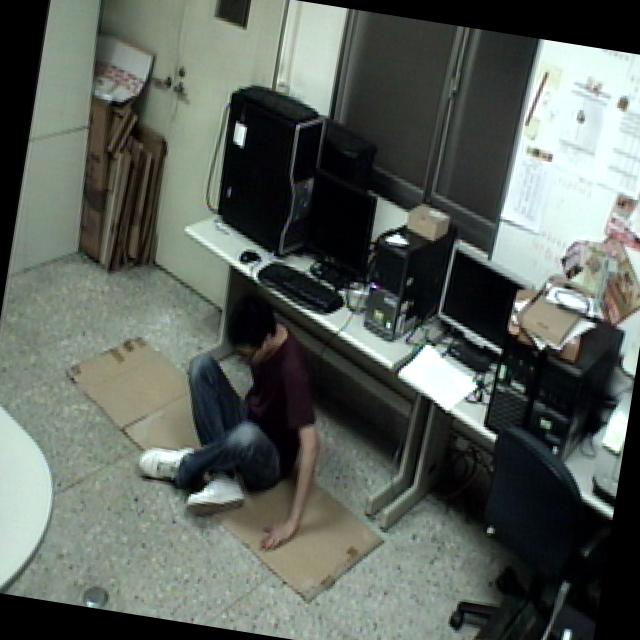sit: (115, 278, 344, 559)
